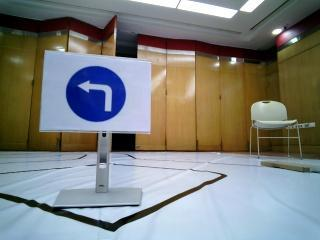left: (56, 56, 143, 127)
